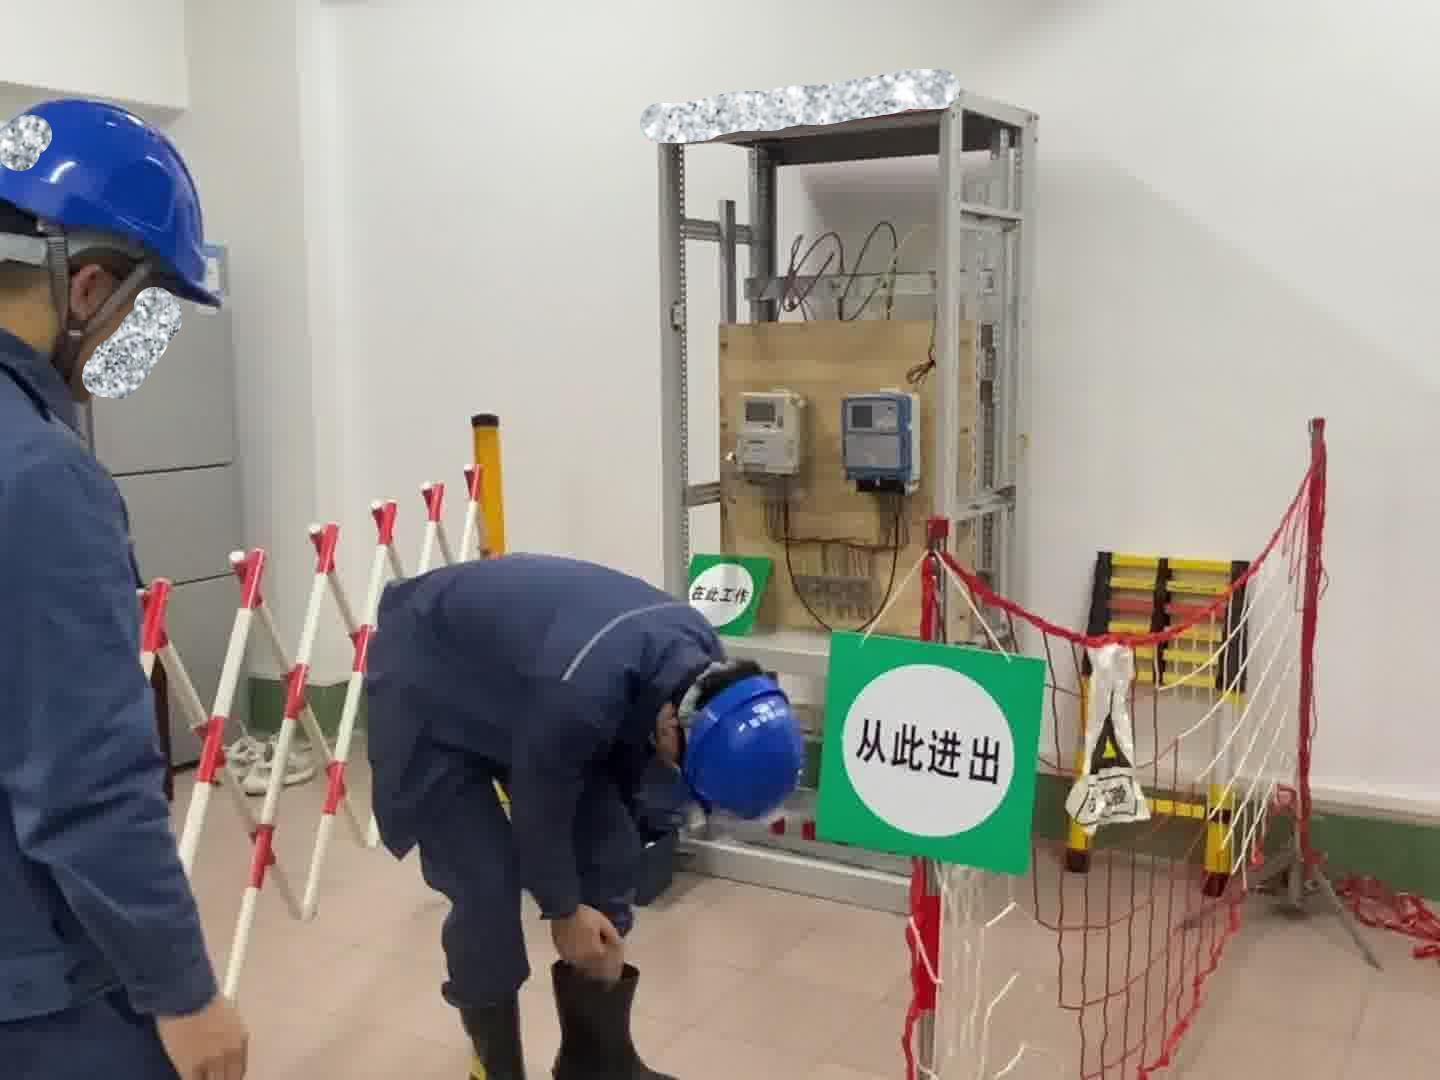halt: (2, 95, 220, 394), (658, 653, 811, 828)
inear: (45, 234, 143, 369)
